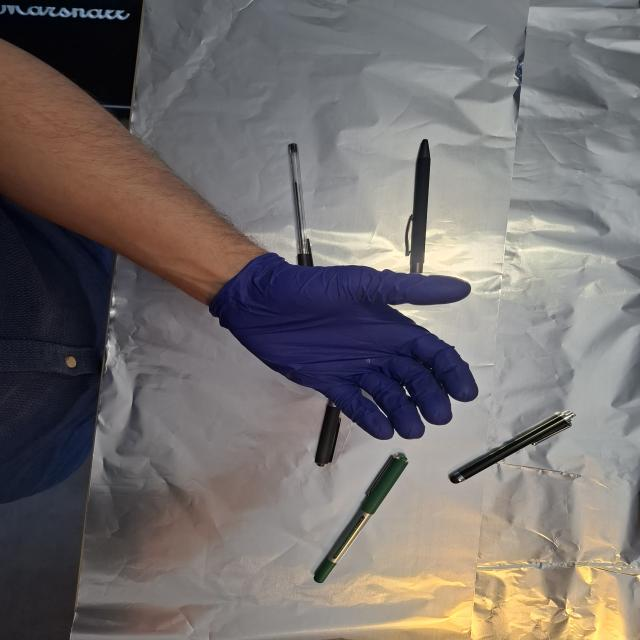glove_on: (205, 250, 481, 442)
